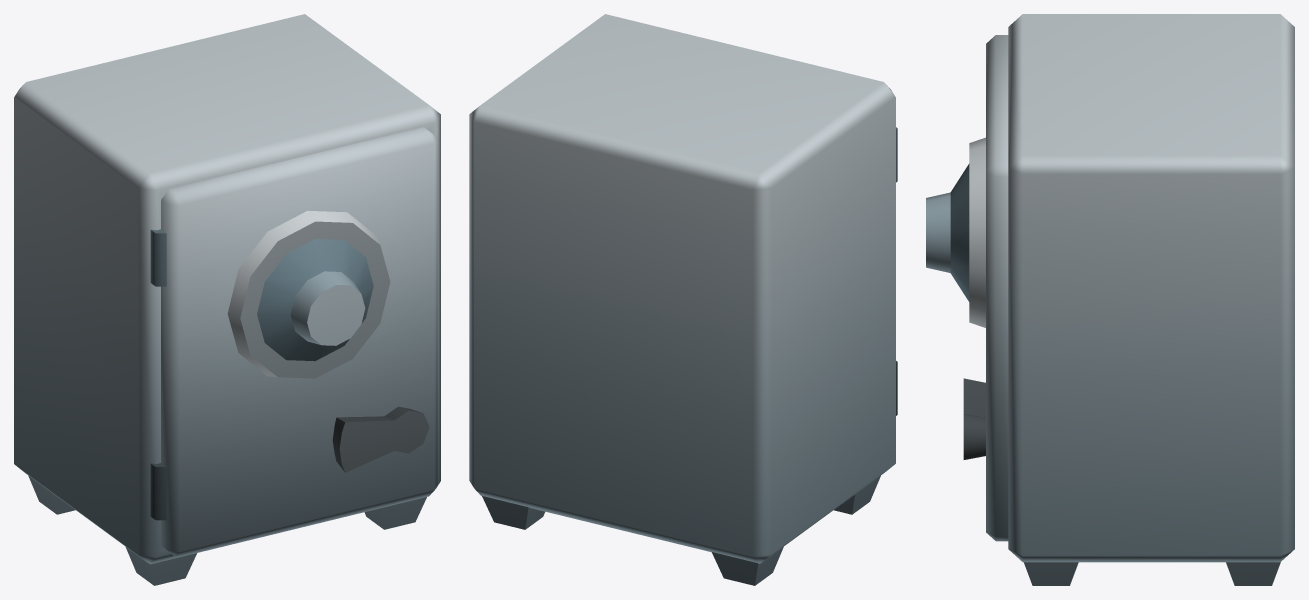
File: SafeBox_01.obj
3 views of the same model, side by side, from view 1: azimuth 30°, elevation 25°; view 2: azimuth 150°, elevation 25°; view 3: azimuth 270°, elevation 25° (orthographic). The views are drawn at different scales.
Visible parts, largest first — view 1: SafeBox_Door_01, SafeBox_01; view 2: SafeBox_01; view 3: SafeBox_01, SafeBox_Door_01.
Part boxes in pixels (x1,y1,x2,y2): SafeBox_Door_01: (150, 127, 437, 556); SafeBox_01: (14, 14, 440, 585); SafeBox_01: (469, 14, 895, 585); SafeBox_01: (1008, 14, 1294, 585); SafeBox_Door_01: (926, 35, 1008, 541).
Size of the model in its own units: 0.8711 by 1.15 by 0.884.
Materials: 1 (1 with a texture image).
